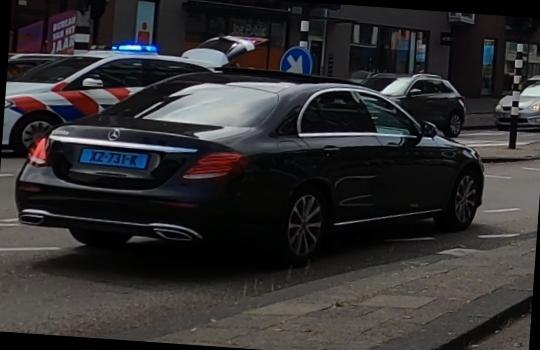license-plate: (75, 147, 150, 170)
